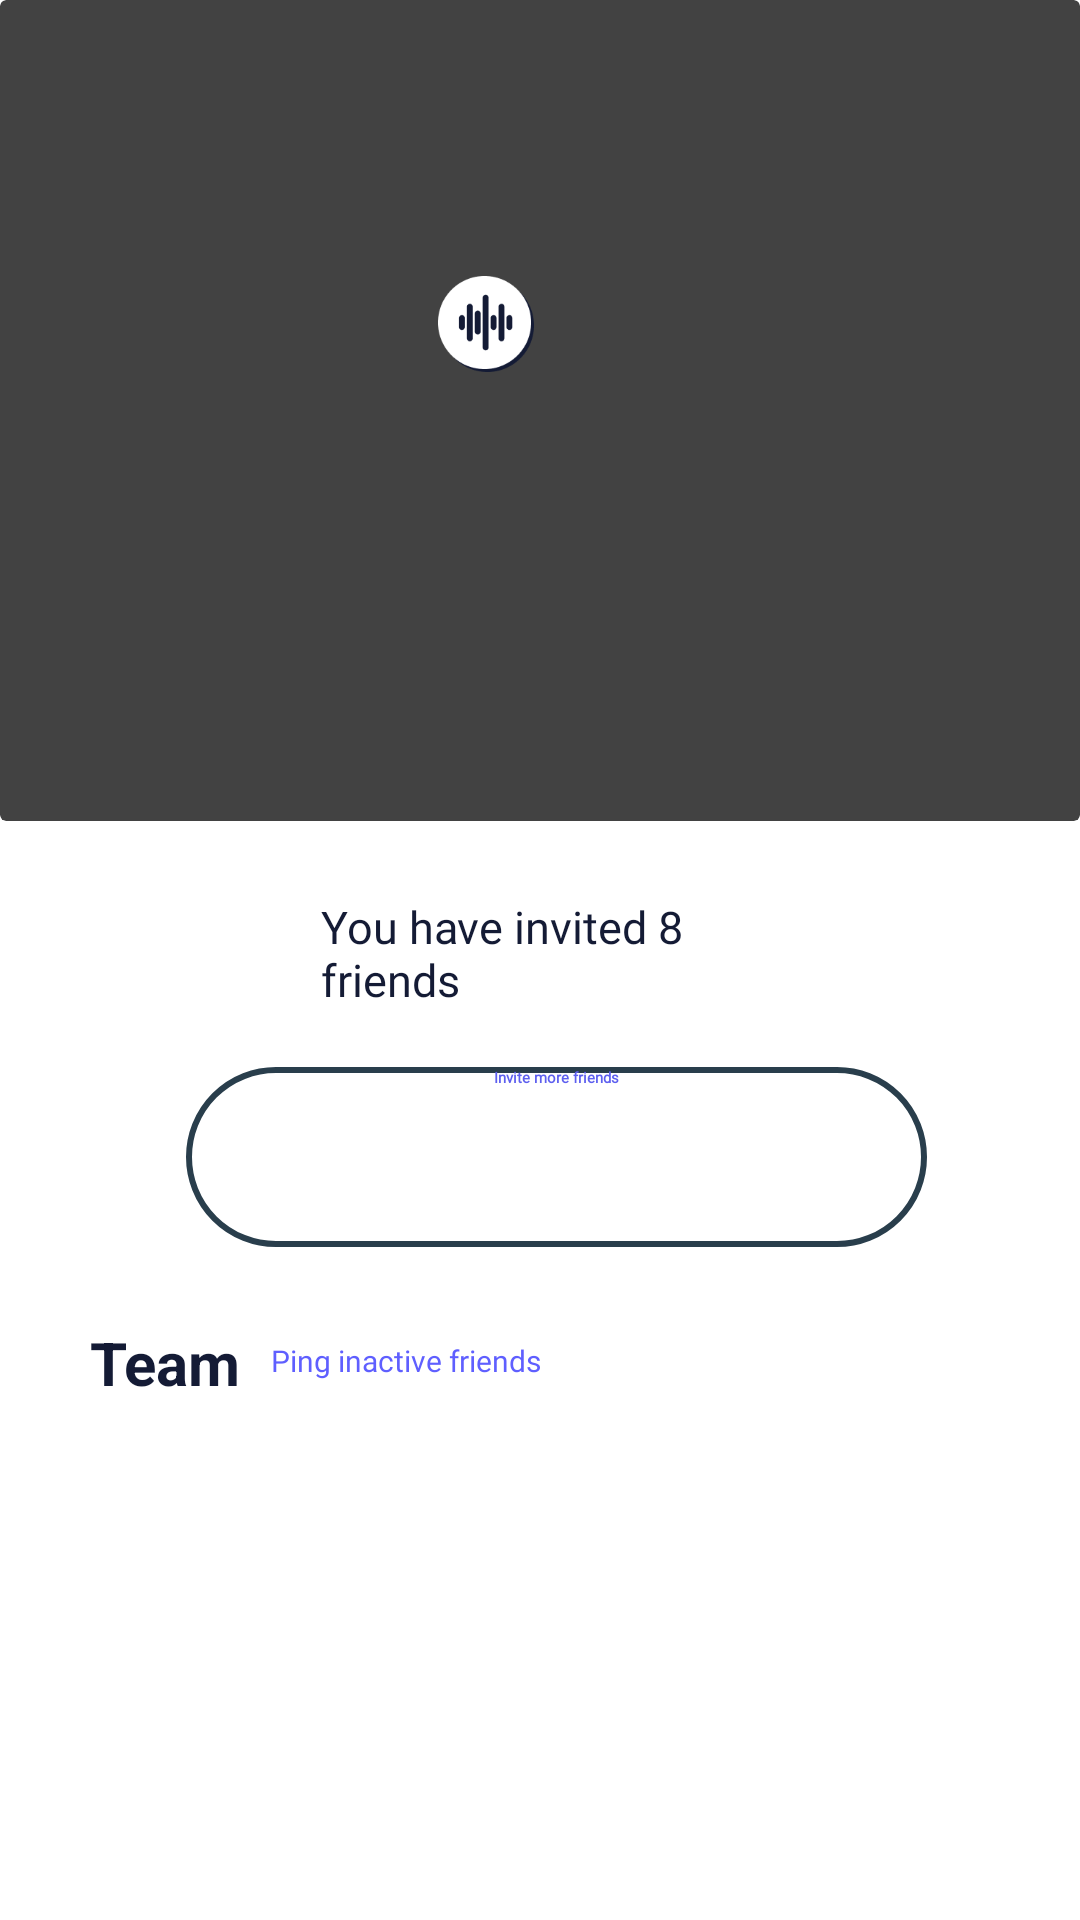

Where to tap for icons on this 1080x1920 app screen, as [x,y]:
noisecoin: [486,324]
